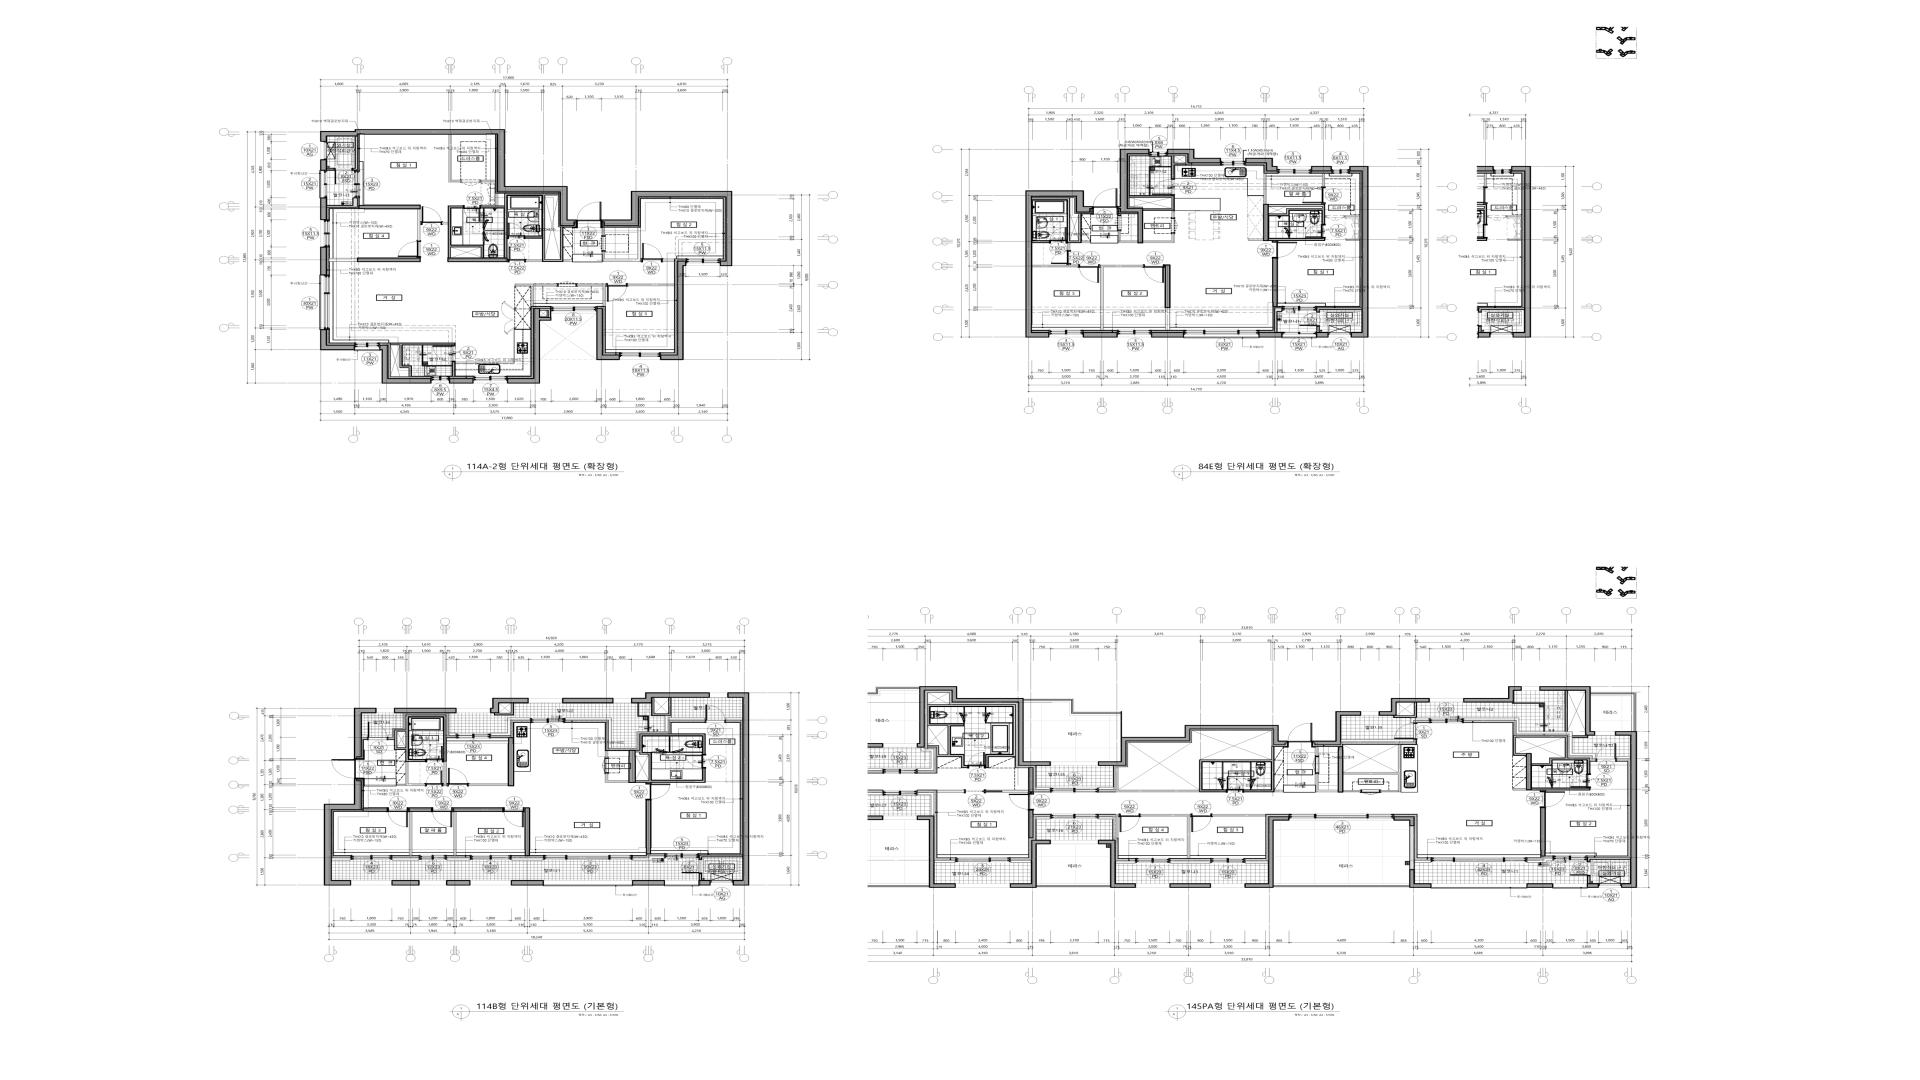door: (331, 759, 365, 779), (576, 202, 602, 228), (1093, 188, 1117, 215), (1288, 723, 1313, 748), (431, 807, 453, 828), (1009, 793, 1034, 811), (1272, 241, 1297, 259), (645, 783, 671, 800), (387, 807, 409, 827), (641, 243, 663, 263), (1540, 791, 1565, 808), (503, 807, 524, 827), (1143, 264, 1165, 283), (420, 206, 442, 225), (1079, 264, 1101, 283), (1596, 743, 1617, 762), (447, 768, 468, 787), (606, 283, 627, 302), (1190, 814, 1212, 832), (1118, 814, 1140, 832), (1303, 187, 1326, 204), (398, 241, 421, 258), (1394, 723, 1418, 739), (432, 346, 456, 362), (367, 722, 388, 740), (705, 705, 726, 723), (1152, 179, 1175, 195), (681, 859, 702, 874), (1299, 312, 1320, 327), (1226, 776, 1244, 793), (463, 205, 481, 222), (1049, 227, 1067, 244), (425, 771, 444, 787), (686, 754, 706, 769), (1570, 862, 1591, 876), (1305, 224, 1326, 238), (968, 752, 985, 769), (426, 746, 443, 763), (508, 247, 526, 263), (334, 168, 352, 184), (1571, 774, 1591, 788), (1051, 251, 1071, 265), (508, 223, 525, 239), (461, 180, 481, 186), (557, 281, 577, 287), (1325, 215, 1345, 221), (964, 789, 985, 794), (602, 758, 609, 773), (1361, 790, 1381, 795), (1172, 218, 1178, 233)
wall: (320, 129, 576, 226), (917, 686, 1051, 766), (1025, 190, 1093, 338), (602, 191, 732, 266), (1464, 691, 1596, 759), (1098, 725, 1288, 766), (1116, 746, 1283, 792), (481, 193, 572, 262), (927, 704, 1016, 768), (727, 692, 749, 886), (324, 779, 362, 886), (394, 715, 447, 786), (1024, 699, 1122, 737), (1615, 731, 1637, 888), (1349, 166, 1369, 338), (636, 734, 706, 783), (507, 308, 551, 384), (1245, 816, 1290, 888), (1513, 735, 1591, 774), (1118, 149, 1150, 244), (917, 816, 956, 888), (1100, 265, 1143, 330), (1540, 686, 1596, 735), (1344, 745, 1401, 792), (1032, 198, 1090, 243), (660, 261, 686, 360), (390, 343, 456, 377), (1140, 814, 1190, 858), (442, 206, 484, 257), (379, 345, 432, 384), (857, 743, 883, 820), (1010, 840, 1051, 888), (651, 698, 705, 732), (1098, 840, 1136, 888), (1591, 692, 1637, 731), (1313, 711, 1361, 745), (565, 718, 612, 749), (602, 228, 641, 262), (596, 308, 620, 360), (354, 708, 376, 759), (1269, 204, 1325, 224), (1129, 196, 1175, 218), (1463, 686, 1522, 703), (515, 284, 557, 306), (1379, 698, 1430, 716), (1410, 826, 1431, 869), (631, 692, 710, 703), (1167, 149, 1221, 163), (320, 329, 355, 350), (1393, 703, 1429, 723), (491, 718, 530, 736), (577, 284, 606, 306), (448, 135, 461, 182), (853, 687, 919, 696), (490, 698, 529, 713), (1409, 869, 1432, 888), (1245, 158, 1278, 171), (917, 792, 934, 816), (1274, 884, 1409, 887), (1316, 774, 1338, 792), (917, 748, 934, 771), (1171, 156, 1186, 179), (394, 708, 456, 713), (854, 884, 929, 888), (327, 198, 357, 208), (1540, 808, 1546, 857), (508, 737, 514, 786), (524, 807, 530, 856), (1037, 884, 1110, 888), (1143, 234, 1175, 243), (1272, 259, 1278, 307), (1338, 747, 1344, 793), (646, 801, 651, 854), (494, 703, 514, 716), (1165, 265, 1171, 308), (628, 751, 636, 783), (357, 258, 421, 262), (562, 698, 613, 703), (453, 807, 503, 812), (359, 205, 421, 209), (447, 258, 508, 262), (605, 773, 628, 783), (1526, 753, 1532, 791), (1118, 231, 1137, 243), (1263, 204, 1269, 241), (1394, 816, 1415, 826), (1169, 883, 1211, 888), (1588, 857, 1630, 862), (1083, 332, 1118, 338), (320, 247, 327, 276), (632, 880, 665, 886), (511, 880, 544, 886), (1151, 332, 1184, 338), (1274, 308, 1282, 332), (1316, 308, 1362, 312), (1532, 788, 1591, 791), (699, 855, 742, 859), (353, 137, 358, 171), (391, 880, 419, 886), (1269, 238, 1325, 241), (1028, 811, 1034, 838), (632, 856, 664, 861), (320, 198, 327, 220), (1028, 767, 1034, 792), (1341, 740, 1414, 742), (446, 880, 470, 886), (1259, 332, 1283, 338), (449, 378, 473, 384), (1527, 883, 1554, 888), (409, 812, 412, 856), (453, 812, 456, 856), (1527, 858, 1553, 863), (985, 790, 1028, 793), (1311, 166, 1332, 172), (1170, 861, 1211, 864), (363, 807, 387, 812), (329, 258, 357, 262), (409, 807, 431, 812), (1165, 308, 1170, 330), (1212, 814, 1266, 816), (540, 308, 551, 317), (511, 858, 543, 861), (417, 209, 420, 241), (627, 284, 674, 286), (1032, 265, 1078, 267), (1264, 174, 1267, 204), (320, 159, 327, 171), (937, 790, 964, 793), (392, 858, 419, 861), (468, 784, 508, 786), (698, 880, 711, 886), (1316, 332, 1329, 338), (1245, 861, 1268, 864), (447, 858, 470, 861), (1010, 860, 1031, 863), (935, 860, 955, 863), (863, 792, 883, 795), (863, 768, 883, 771), (452, 362, 456, 377), (332, 858, 351, 861), (1116, 861, 1135, 864), (1032, 240, 1049, 243), (1587, 884, 1599, 888), (1116, 814, 1118, 838), (1099, 787, 1114, 790), (1036, 787, 1050, 790), (1617, 756, 1630, 759), (1322, 174, 1325, 187), (495, 194, 498, 206), (1344, 790, 1361, 792), (663, 259, 674, 262), (514, 784, 530, 786), (726, 718, 742, 720), (1248, 239, 1263, 241), (1587, 876, 1591, 883), (1346, 239, 1360, 241), (481, 180, 495, 182), (1099, 817, 1113, 819), (1036, 817, 1050, 819), (1316, 747, 1319, 756), (602, 228, 605, 236), (1067, 243, 1070, 251), (449, 733, 456, 736), (605, 751, 608, 758), (327, 168, 334, 171), (1316, 327, 1320, 332), (699, 874, 702, 880), (1345, 216, 1360, 217), (1513, 789, 1526, 790), (362, 735, 367, 737), (388, 735, 393, 737), (1118, 214, 1121, 215)
window: (1290, 814, 1394, 820), (1184, 330, 1259, 338), (319, 276, 330, 329), (1431, 857, 1527, 862), (1432, 884, 1527, 889), (543, 855, 632, 860), (544, 881, 632, 886), (620, 352, 660, 360), (551, 306, 596, 313), (955, 857, 1010, 862), (686, 258, 720, 266), (1050, 788, 1099, 793), (1050, 814, 1099, 819), (321, 220, 330, 247), (473, 376, 507, 383), (1049, 330, 1083, 337), (1278, 167, 1311, 174), (1118, 330, 1151, 337), (319, 171, 327, 198), (352, 171, 360, 198), (355, 342, 379, 351), (1553, 855, 1588, 861), (351, 855, 392, 860), (470, 855, 511, 860), (883, 768, 917, 774), (1283, 332, 1316, 338), (1221, 158, 1245, 166), (1051, 840, 1098, 844), (1051, 762, 1098, 766), (1429, 718, 1464, 723), (1135, 858, 1170, 863), (664, 853, 699, 858), (456, 734, 491, 739), (530, 718, 565, 723), (1211, 858, 1245, 863), (883, 791, 917, 796), (1282, 306, 1316, 311), (1554, 884, 1587, 889), (665, 881, 698, 886), (529, 698, 562, 703), (457, 708, 490, 713), (470, 881, 511, 885), (956, 884, 1010, 887), (351, 881, 391, 885), (419, 855, 447, 860), (883, 816, 917, 820), (1150, 149, 1167, 157), (1136, 884, 1169, 888), (431, 376, 449, 383), (1332, 167, 1349, 174), (711, 880, 733, 885), (1329, 332, 1351, 337), (420, 881, 446, 885), (883, 744, 917, 747), (321, 142, 327, 159), (1430, 699, 1463, 702), (1211, 884, 1244, 887), (613, 698, 631, 703), (1599, 883, 1621, 887), (377, 708, 394, 713), (710, 693, 727, 698), (1596, 732, 1615, 735), (1361, 712, 1379, 715), (1522, 687, 1539, 690)
